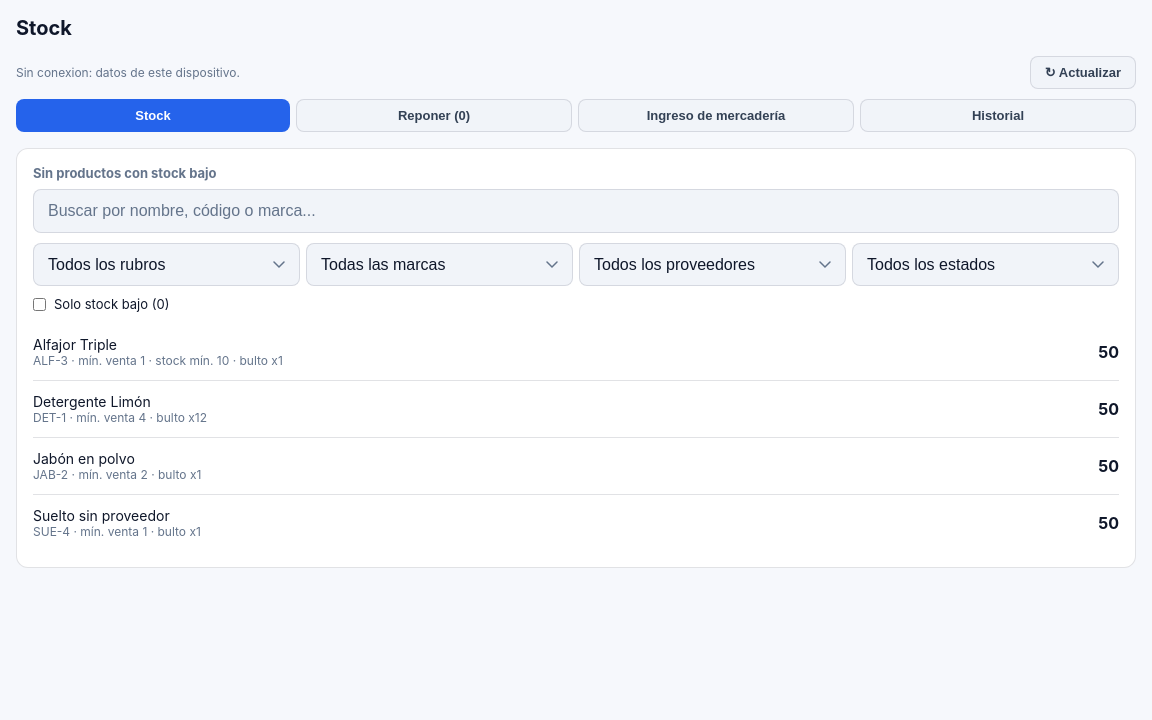
AC-STB-3 Reponer: agregar al pedido al proveedor › AC-STB-3 sin stock bajo muestra el mensaje vacío
Click the button "Reponer (0)".
click(434, 116)  # box left=296, top=99, right=572, bottom=132
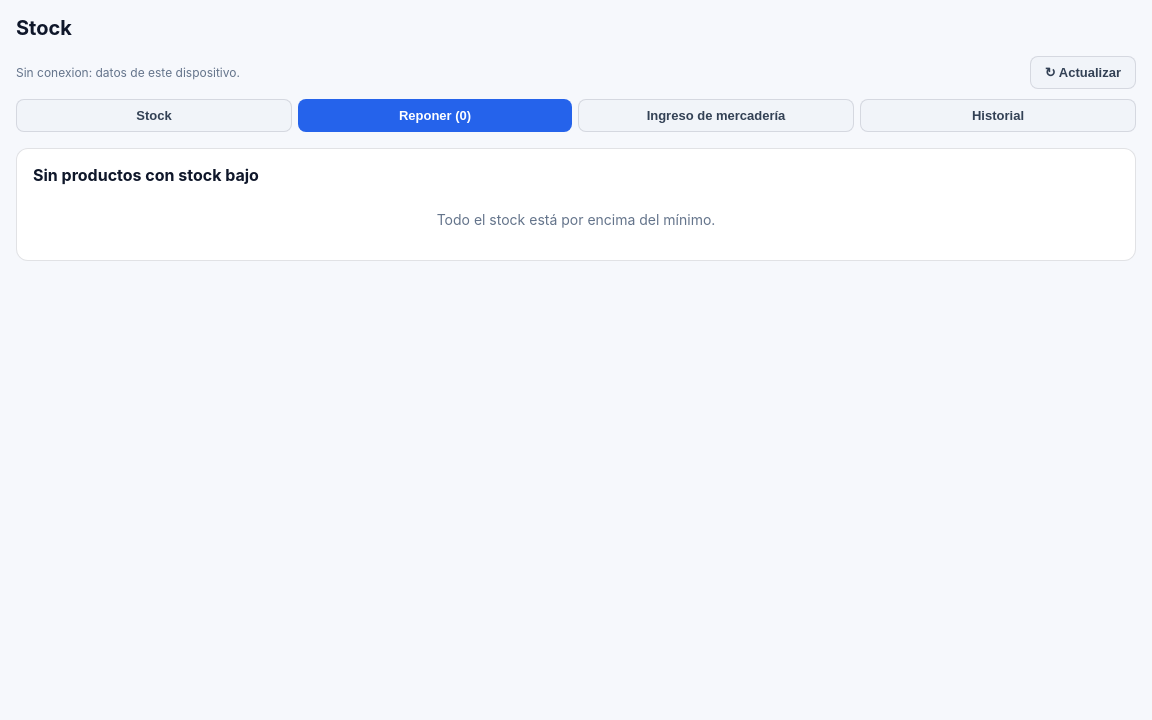
Expected: the text "Todo el stock está por encima del mínimo" is shown, left=437, top=211, right=715, bottom=228
